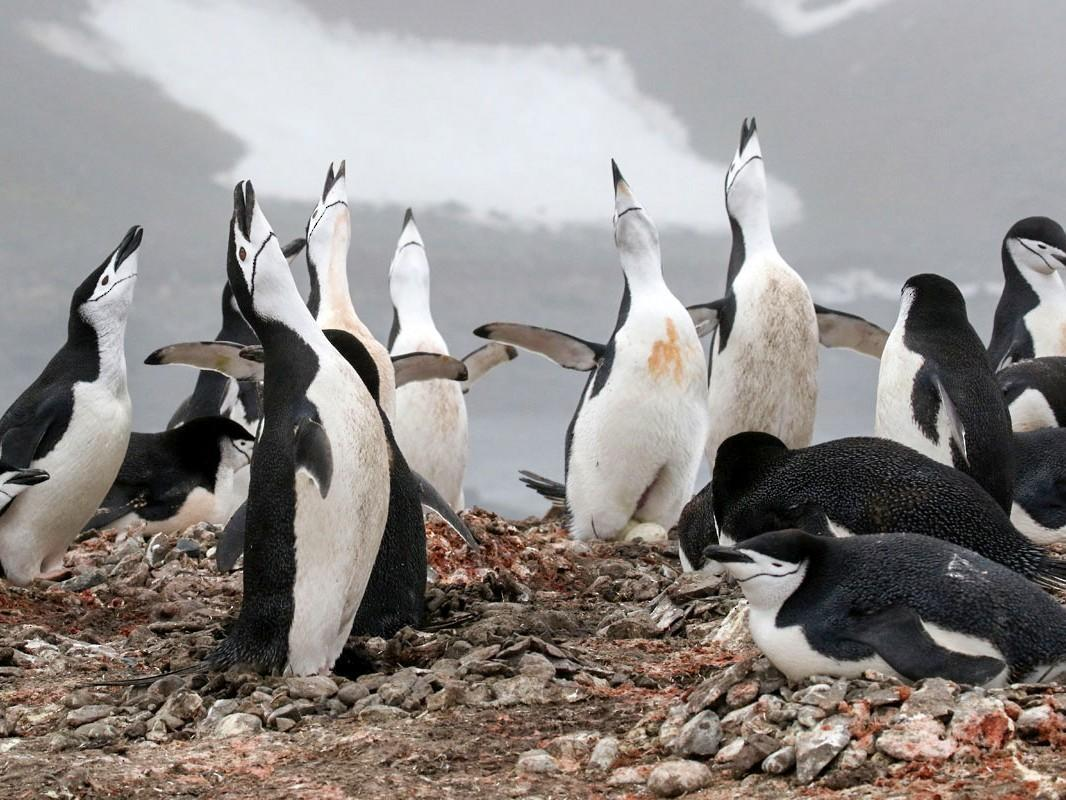Penguin: (142, 181, 391, 674), (475, 164, 708, 542), (687, 119, 886, 461), (678, 431, 1065, 586), (706, 529, 1065, 686), (0, 225, 143, 585), (306, 162, 468, 417), (874, 275, 1015, 518), (349, 433, 479, 640), (394, 341, 516, 508), (85, 416, 253, 532), (989, 217, 1065, 371), (386, 208, 449, 357), (1010, 427, 1064, 548), (167, 371, 262, 435), (995, 356, 1064, 430), (217, 283, 258, 344), (0, 464, 49, 512), (283, 239, 303, 258)
